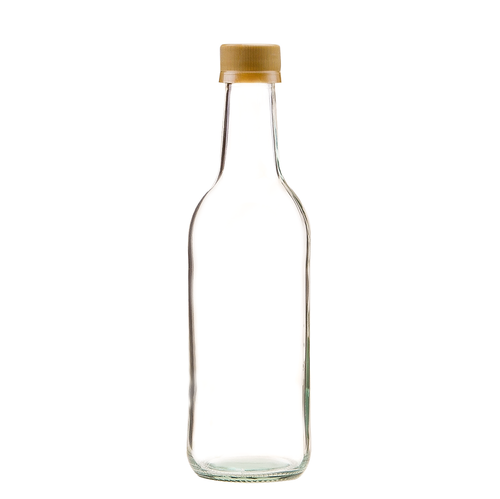glass_bottle: (176, 30, 324, 488)
